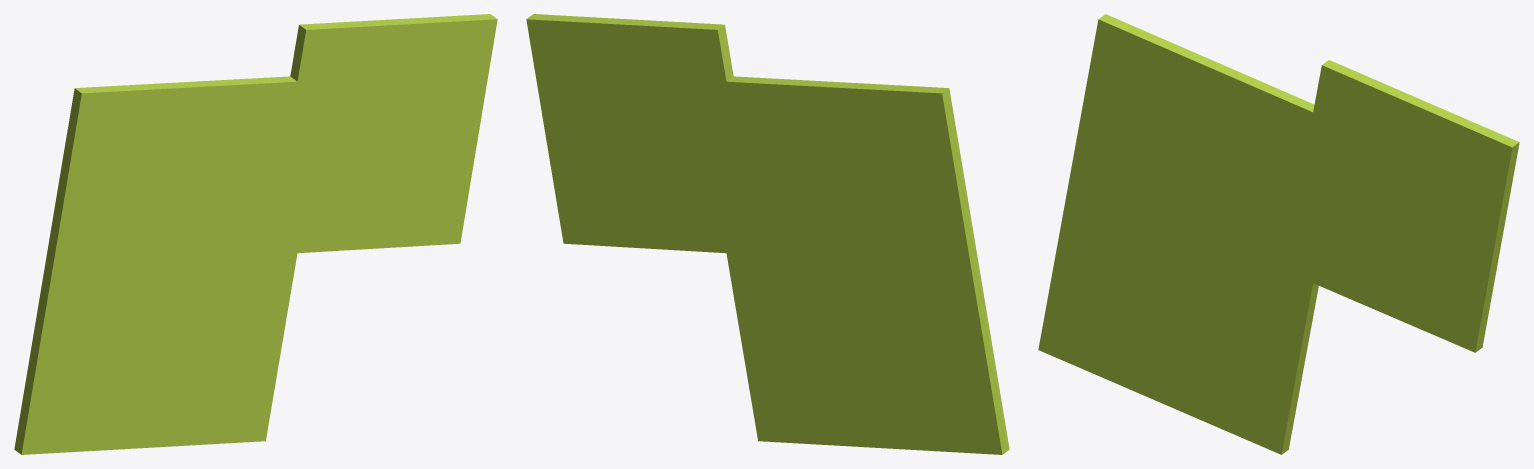
3 renders of one model, left to right at view 1: azimuth 30°, elevation 25°; view 2: azimuth 150°, elevation 25°; view 3: azimuth 330°, elevation 25°, orthographic.
Visible parts, largest first — view 1: osm-way27917482-F1; view 2: osm-way27917482-F1; view 3: osm-way27917482-F1.
Part boxes in pixels (x1,y1,x2,y2): osm-way27917482-F1: [14, 14, 497, 454]; osm-way27917482-F1: [526, 14, 1009, 454]; osm-way27917482-F1: [1038, 14, 1519, 454].
Size of the model in its own units: 5.69 by 4.58 by 0.15.
